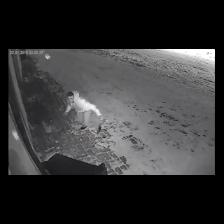person: (64, 91, 103, 129)
